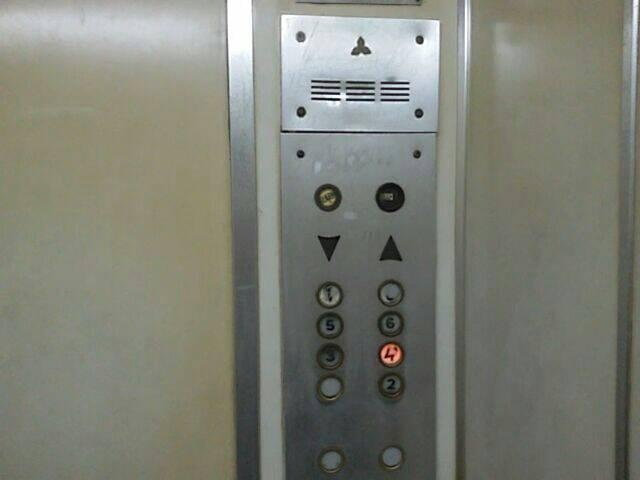2: (378, 373, 404, 398)
3: (317, 343, 344, 370)
5: (316, 312, 344, 339)
6: (378, 311, 404, 337)
blur: (377, 280, 405, 307), (317, 282, 343, 308), (378, 342, 404, 367)
empty: (318, 447, 344, 474), (318, 375, 344, 401), (379, 445, 405, 470)
text_blur: (375, 182, 405, 213), (314, 183, 342, 212)
